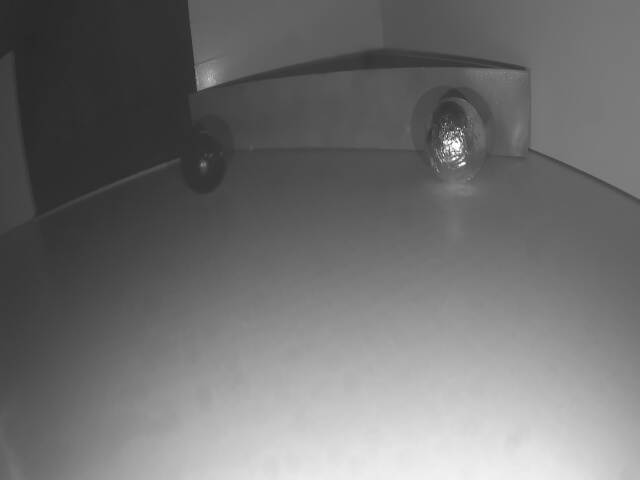Dead: (182, 135, 227, 194)
Live: (423, 100, 488, 184)
Red: (189, 66, 531, 158)
